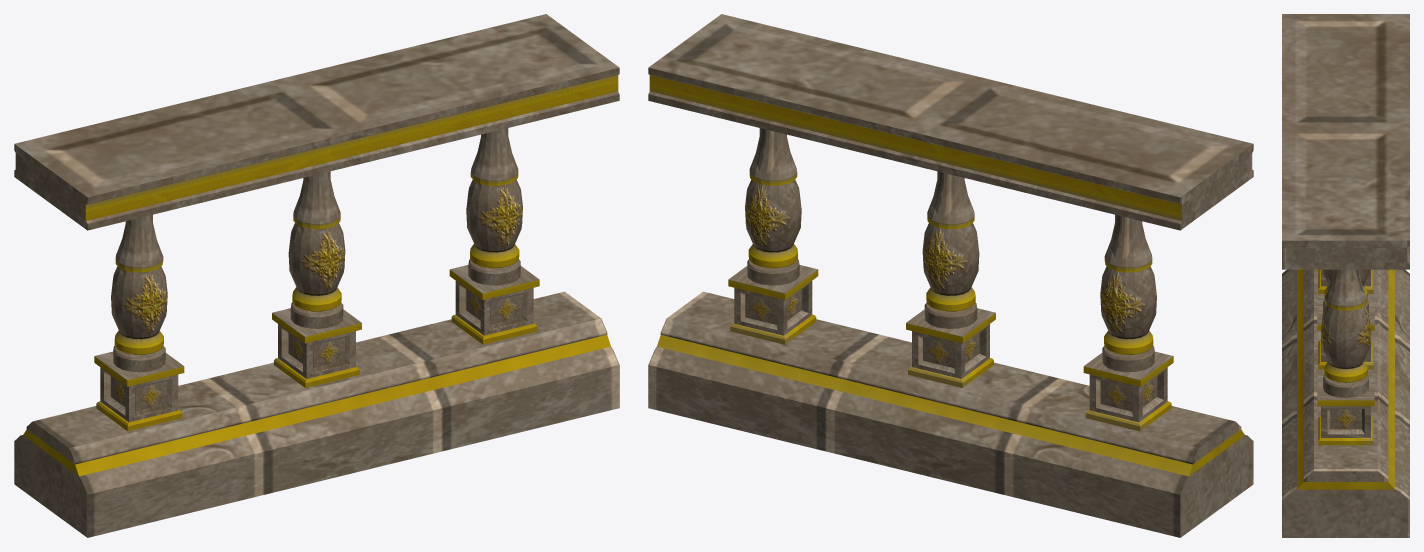
File: fence.fbx
3 views of the same model, side by side, from view 1: azimuth 30°, elevation 25°; view 2: azimuth 150°, elevation 25°; view 3: azimuth 270°, elevation 25° (orthographic). The views are drawn at different scales.
Parts seen in each view (by area): view 1: fence16; view 2: fence16; view 3: fence16.
Part boxes in pixels (x1,y1,x2,y2): fence16: (14, 14, 619, 537); fence16: (648, 14, 1253, 537); fence16: (1282, 14, 1409, 537).
Bounding box in the file's own units: 210 × 128 × 50.
1 material, 1 textured.
